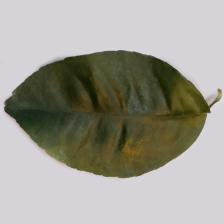healthy: (14, 58, 194, 166)
